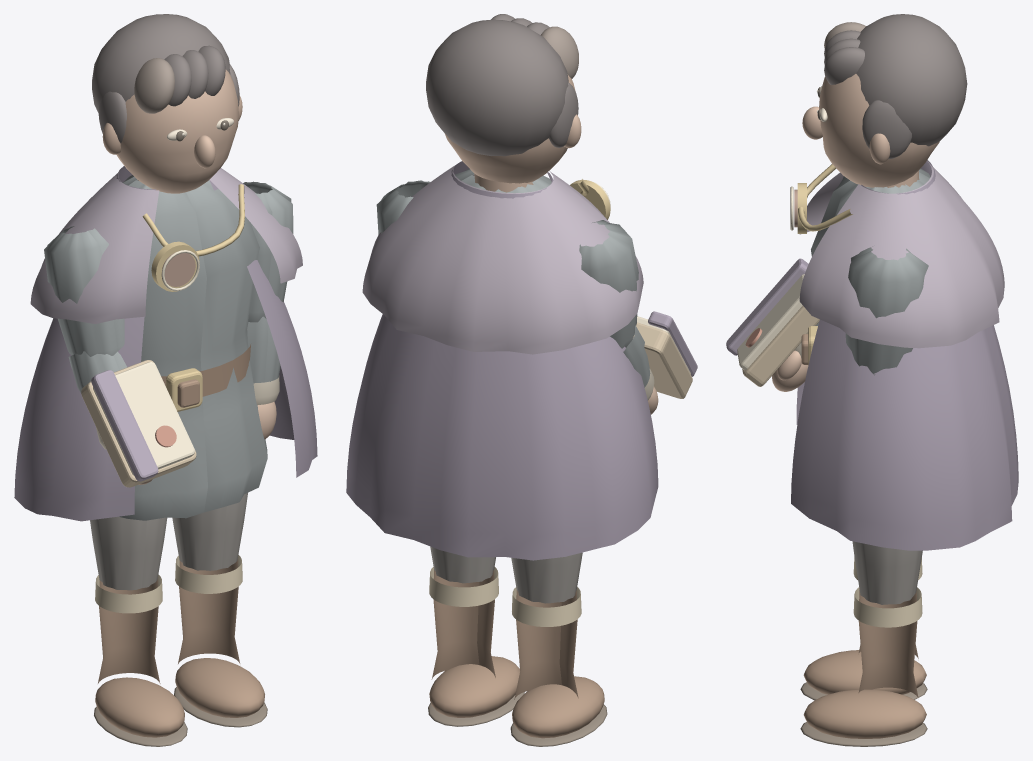
Rendered from character-kesa.glb.
3 views of the same model, side by side, from view 1: azimuth 30°, elevation 25°; view 2: azimuth 150°, elevation 25°; view 3: azimuth 270°, elevation 25° (orthographic). The views are drawn at different scales.
Parts seen in each view (by area): view 1: Group_1, Group_55, Group_86, Group_95, Group_11, Group_21, Group_37, Group_29, Group_9, Group_19, Group_48, Group_46 (+1 smaller); view 2: Group_86, Group_95, Group_55, Group_11, Group_21, Group_37, Group_29, Group_9, Group_1, Group_19, Group_46, Group_31; view 3: Group_86, Group_95, Group_55, Group_21, Group_37, Group_46, Group_19, Group_1, Group_11, Group_31.
Part boxes in pixels (<box>): Group_1: <box>119,175,267,520</box>; Group_55: <box>92,14,242,193</box>; Group_86: <box>14,166,317,521</box>; Group_95: <box>30,167,302,323</box>; Group_11: <box>94,574,187,746</box>; Group_21: <box>174,555,267,727</box>; Group_37: <box>81,360,196,487</box>; Group_29: <box>44,226,124,356</box>; Group_9: <box>90,516,167,590</box>; Group_19: <box>172,493,247,570</box>; Group_48: <box>247,316,280,439</box>; Group_46: <box>243,181,293,322</box>; Group_86: <box>346,161,658,560</box>; Group_95: <box>362,161,643,354</box>; Group_55: <box>426,14,581,183</box>; Group_11: <box>510,587,607,746</box>; Group_21: <box>428,567,524,726</box>; Group_37: <box>633,311,697,398</box>; Group_29: <box>579,220,638,348</box>; Group_9: <box>511,552,582,603</box>; Group_1: <box>455,168,610,219</box>; Group_19: <box>430,546,495,583</box>; Group_46: <box>376,180,430,234</box>; Group_31: <box>623,325,658,414</box>; Group_86: <box>791,160,1018,550</box>; Group_95: <box>799,161,1004,348</box>; Group_55: <box>802,14,967,187</box>; Group_21: <box>800,587,927,746</box>; Group_37: <box>726,258,819,386</box>; Group_46: <box>845,246,928,373</box>; Group_19: <box>852,541,922,604</box>; Group_1: <box>790,164,930,364</box>; Group_11: <box>800,557,927,700</box>; Group_31: <box>772,322,818,391</box>.
Size of the model in its own units: 0.796 by 1.91 by 0.731.
